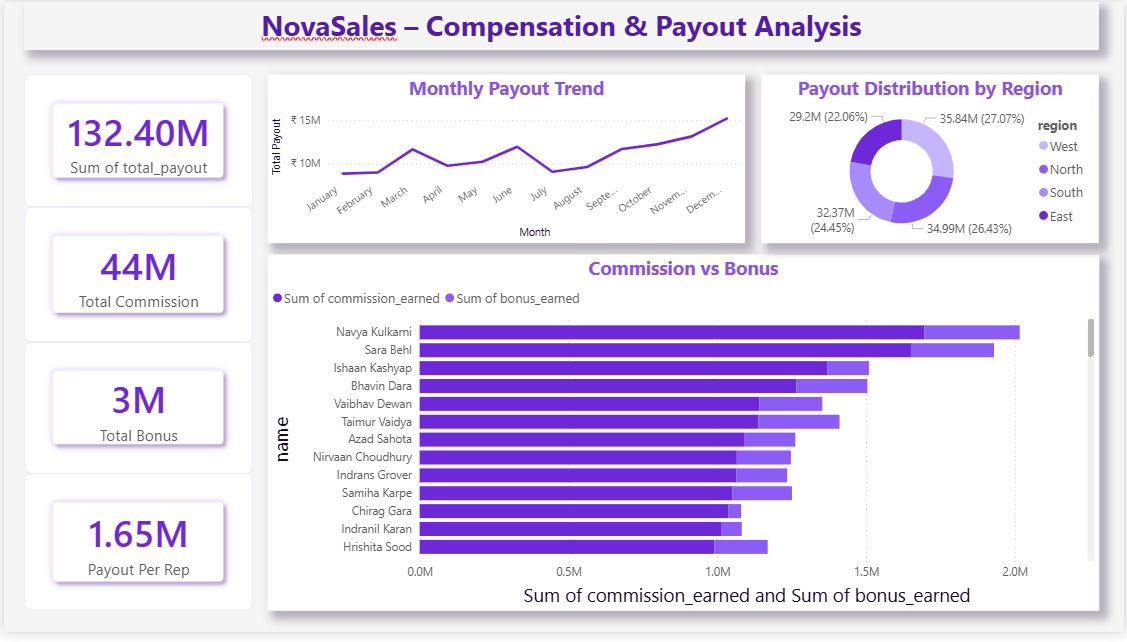

Layout of this report page (visuals, bound fields, positions):
{"tool":"powerbi","page":{"name":"Compensation & Payout","canvas":[1280,720],"ordinal":2},"visuals":[{"type":"textbox","box":[10,0,1270,54.3],"z":0},{"type":"cardVisual","fields":{"Data":["Sum(commission_data.total_payout)"]},"box":[22.9,82.9,261.4,151.4],"z":1},{"type":"cardVisual","fields":{"Data":["commission_data.Payout Per Rep"]},"box":[22.9,538.6,261.4,157.1],"z":2},{"type":"cardVisual","fields":{"Data":["commission_data.Total Bonus"]},"box":[22.9,388.6,261.4,150],"z":3},{"type":"cardVisual","fields":{"Data":["commission_data.Total Commission"]},"box":[22.9,234.3,261.4,154.3],"z":4},{"type":"lineChart","title":"Monthly Payout Trend","fields":{"Y":["commission_data.Total Payout"],"Category":["commission_data.month_name.Variation.Date Hierarchy.Month"]},"box":[301.4,82.9,545.7,192.9],"z":5},{"type":"barChart","title":"Commission vs Bonus ","fields":{"Category":["commission_data.name"],"Y":["Sum(commission_data.commission_earned)","Sum(commission_data.bonus_earned)"]},"box":[301.4,288.6,950,407.1],"z":6},{"type":"donutChart","title":"Payout Distribution by Region","fields":{"Category":["commission_data.region"],"Y":["Sum(commission_data.total_payout)"]},"box":[865.7,82.9,385.7,192.9],"z":7}]}

Visuals, with their boxes in screenshot pixels (x1, y1, x2, y2), scaled from the page's 1280x720 canvas onto the 1127x642 screenshot:
textbox: x1=9, y1=0, x2=1126, y2=48
cardVisual - Sum(commission_data.total_payout): x1=20, y1=74, x2=250, y2=209
cardVisual - commission_data.Payout Per Rep: x1=20, y1=480, x2=250, y2=620
cardVisual - commission_data.Total Bonus: x1=20, y1=347, x2=250, y2=480
cardVisual - commission_data.Total Commission: x1=20, y1=209, x2=250, y2=347
"Monthly Payout Trend" lineChart: x1=265, y1=74, x2=746, y2=246
"Commission vs Bonus " barChart: x1=265, y1=257, x2=1102, y2=620
"Payout Distribution by Region" donutChart: x1=762, y1=74, x2=1102, y2=246
